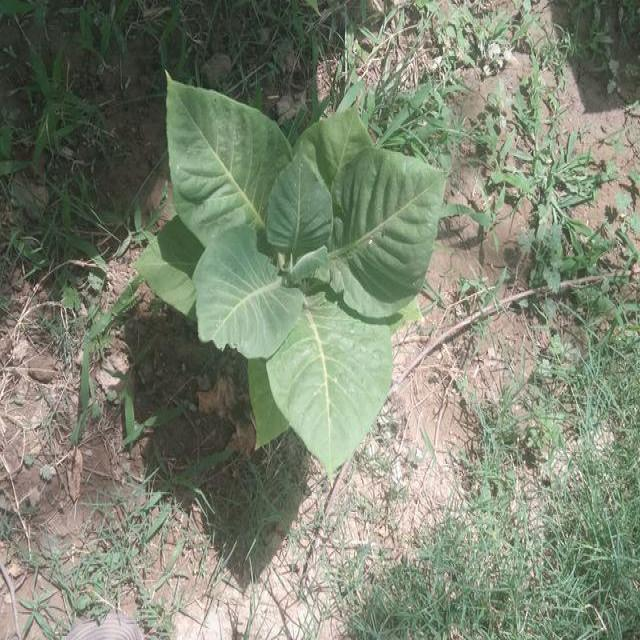crop: (132, 70, 454, 474)
